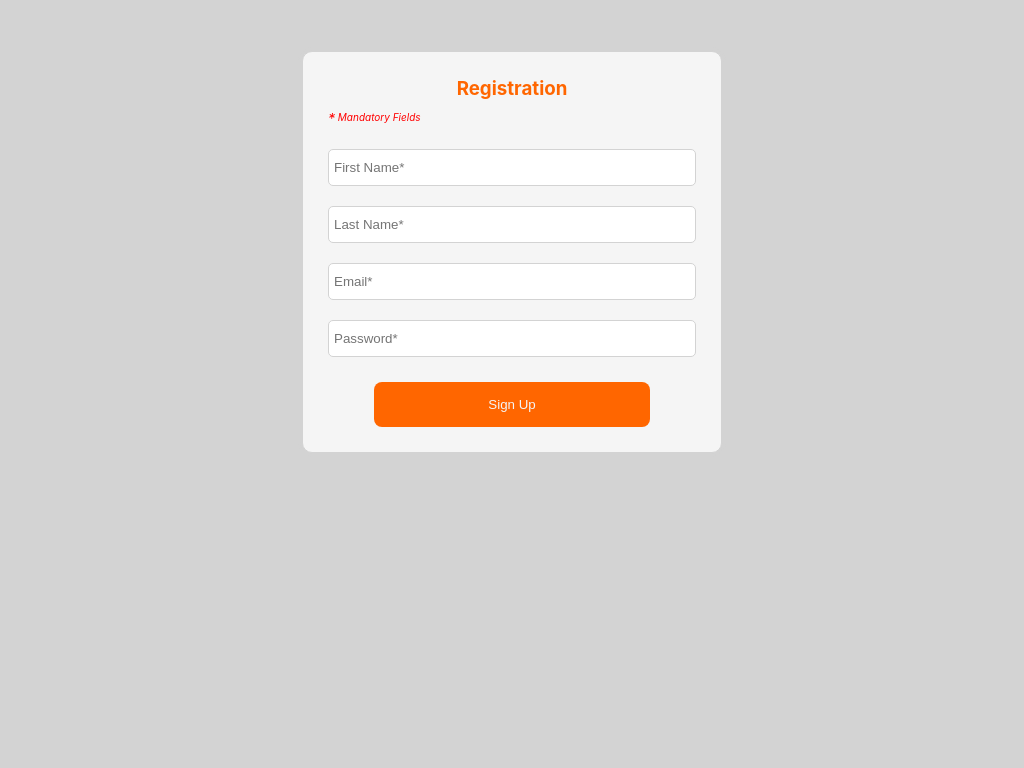
Test: Registration component › on submit › should post data on submit
Type "Dane" into the field with test id "firstname-field" at (512, 168), box 328,149 -> 696,186
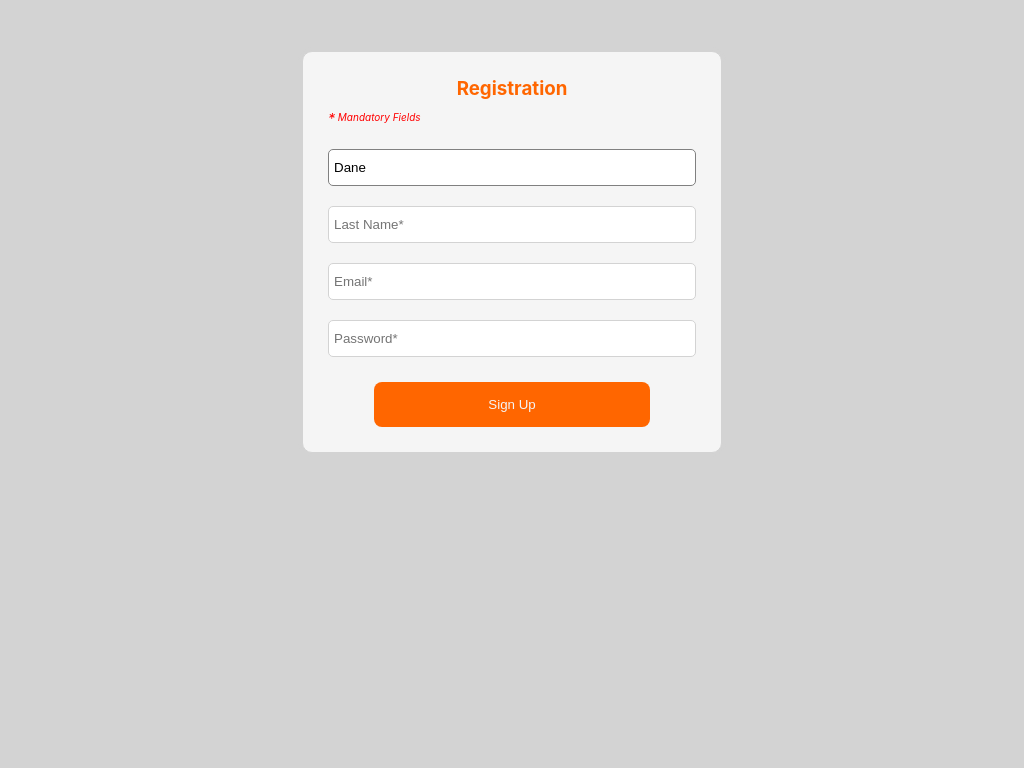
Type "Jonas" into the field with test id "lastname-field" at (512, 225), box 328,206 -> 696,243
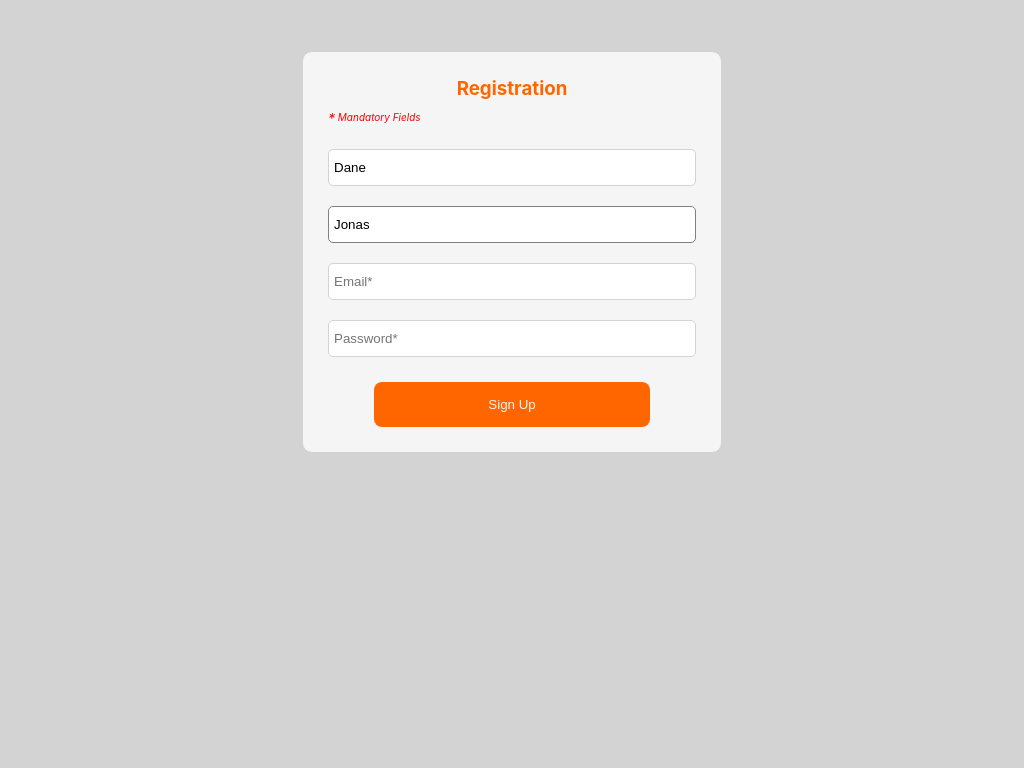
Type "Dane.Jonas@gmail.com" into the field with test id "email-field" at (512, 282), box 328,263 -> 696,300
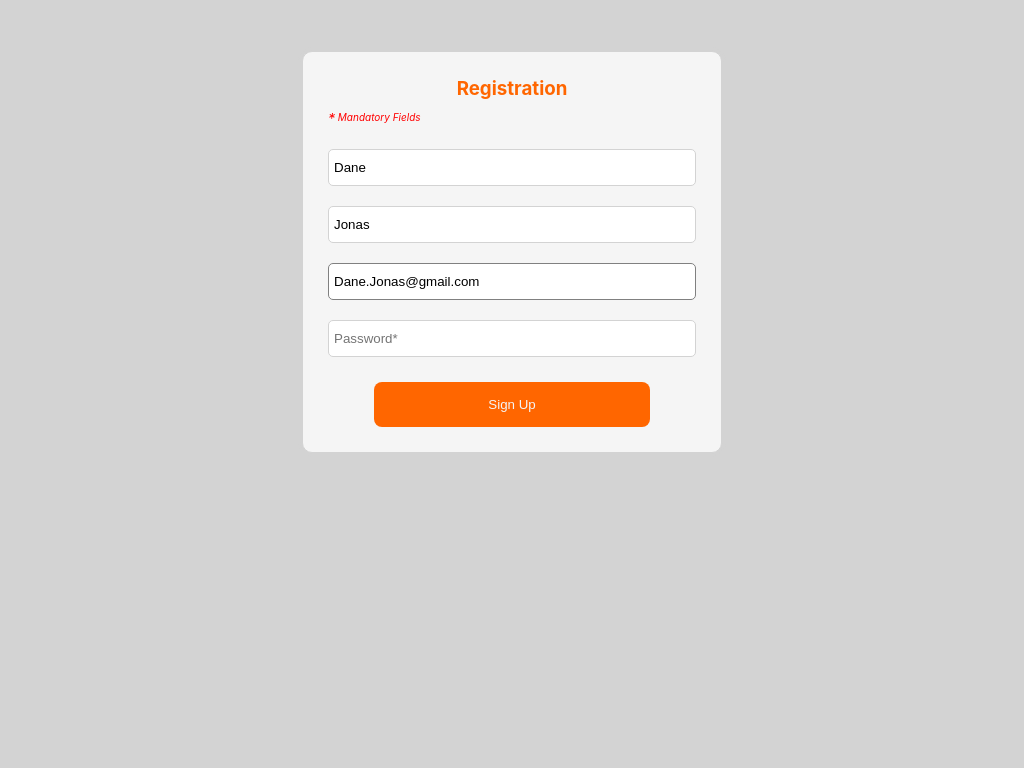
Type "Password@123" into the password field with test id "password-field" at (512, 339), box 328,320 -> 696,357
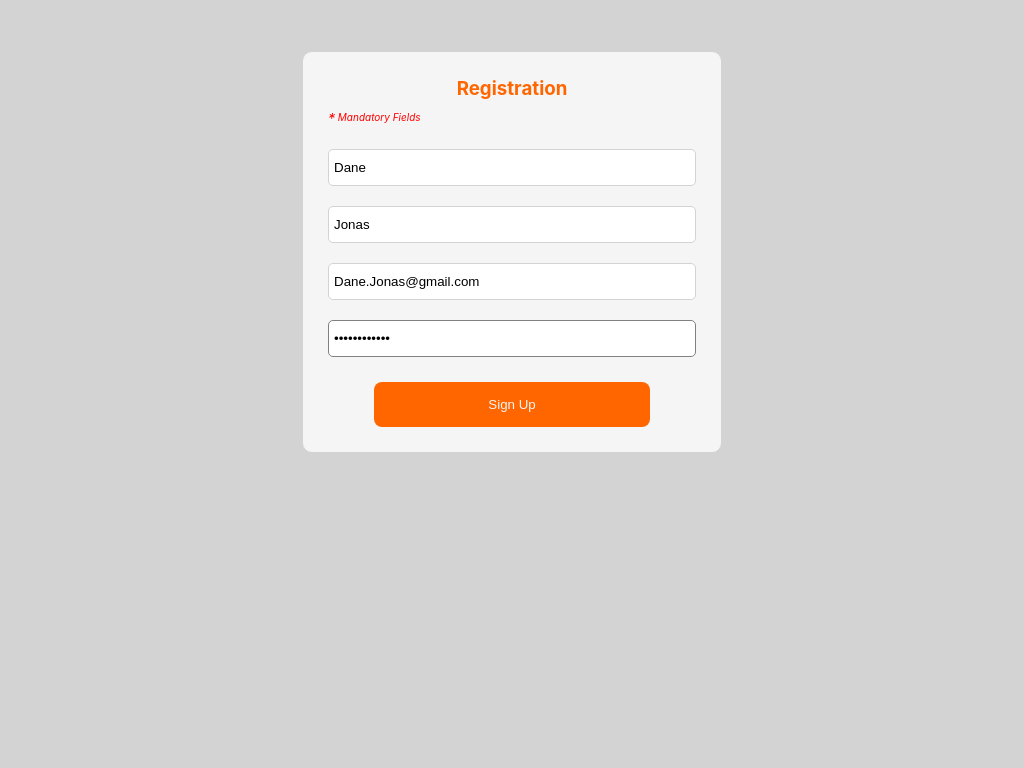
Click the button with test id "submit" at (512, 405), box 374,382 -> 650,427
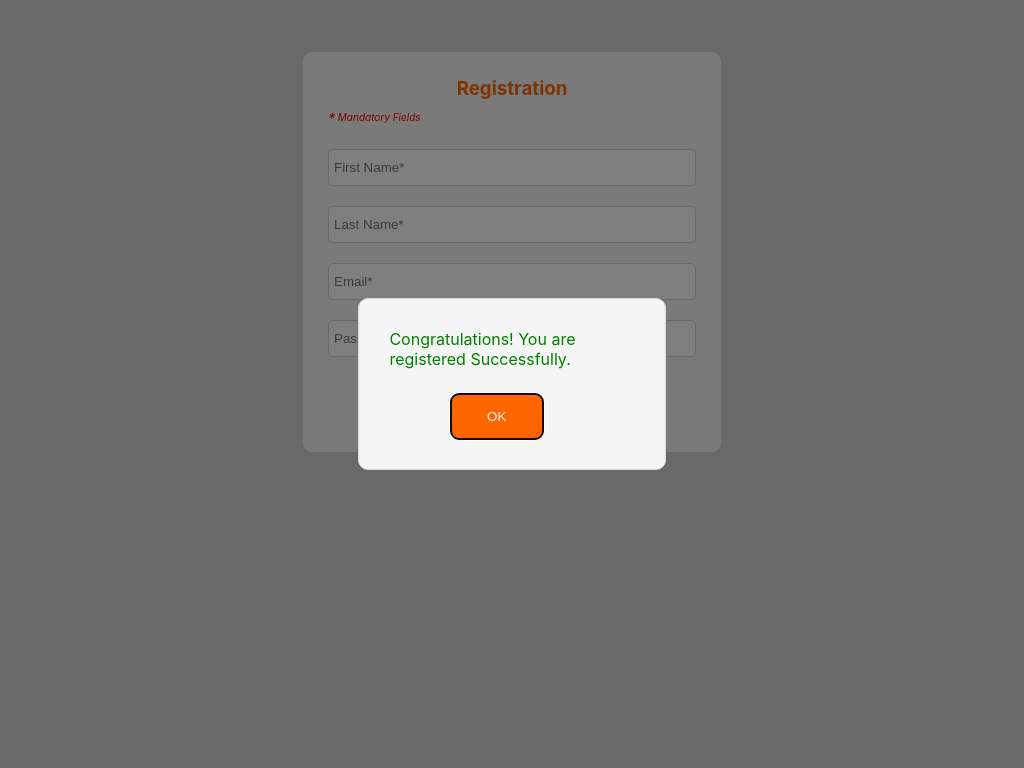
Expected: the text "Congratulations! You are registered Successfully." is shown, 389,329 -> 576,369
